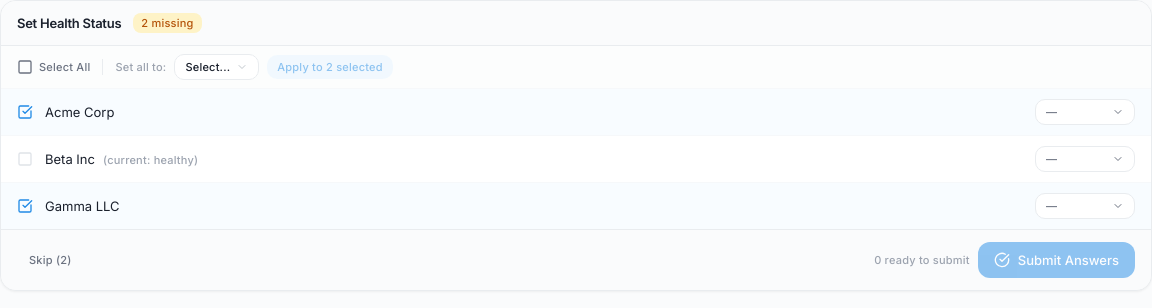
Test: BatchEnrichmentPanel › Bulk Value Application › 10. Apply bulk overwrites existing pending values
The width and height of the screenshot is (1152, 308).
First set individual values
Click the button "—" in the row of "Acme Corp".
click(1085, 112)  # box [1035, 99, 1135, 125]
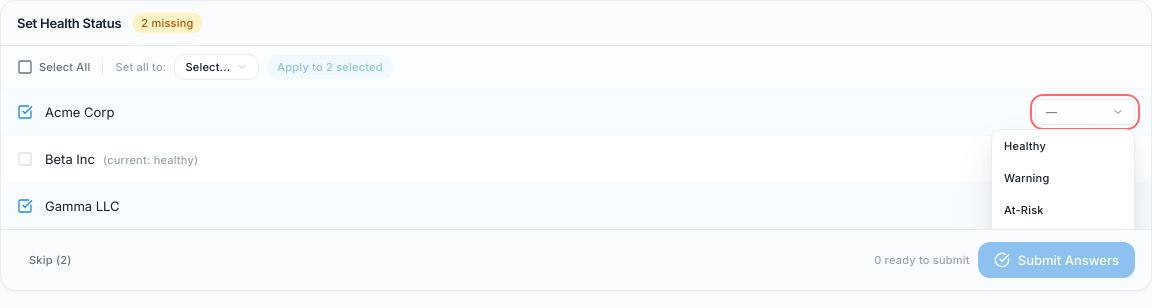
Click the button "At-Risk".
click(1063, 210)  # box [992, 194, 1134, 226]
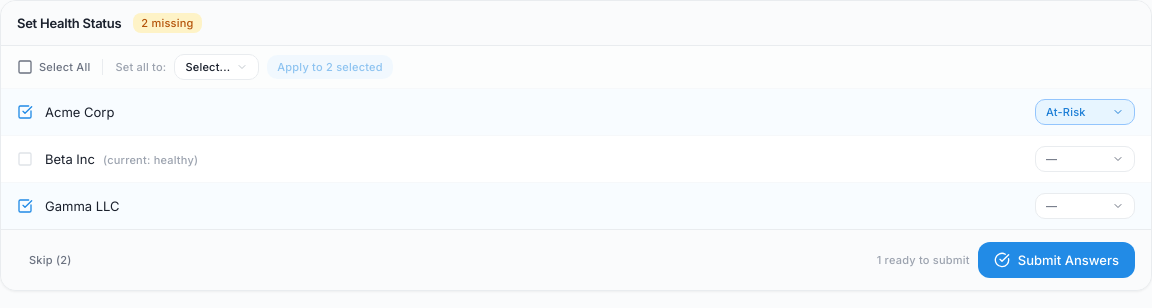
Now apply bulk "Healthy"
Click the button "Select...".
click(217, 67)  # box [174, 54, 259, 80]
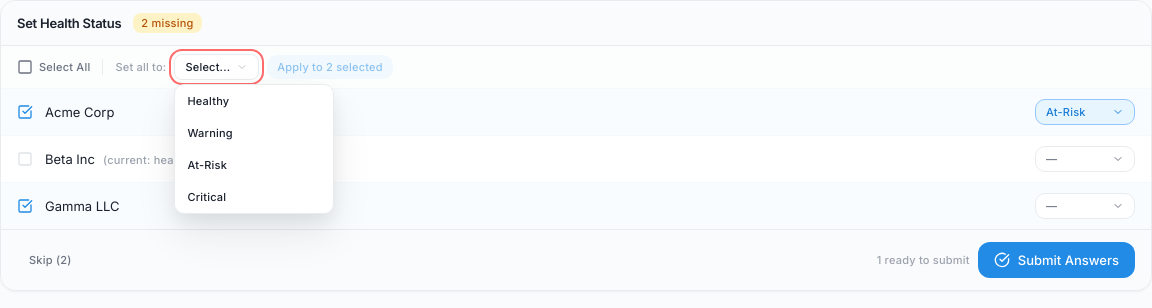
Click the button "Healthy".
click(254, 101)  # box [175, 85, 333, 117]
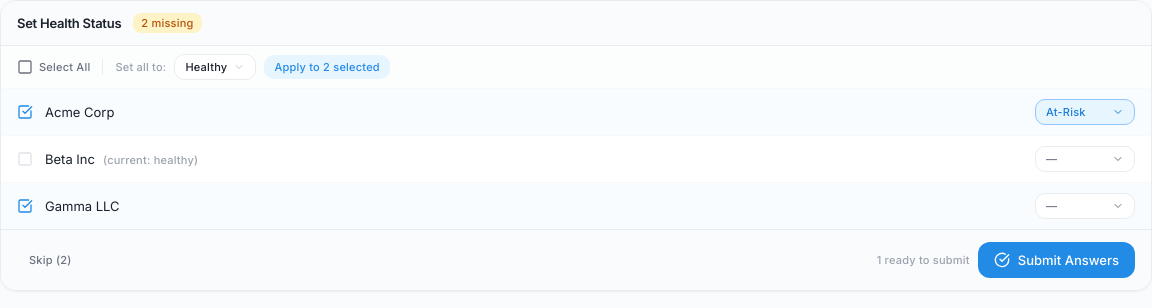
Click the button "Apply to 2 selected".
click(327, 67)  # box [264, 55, 390, 79]
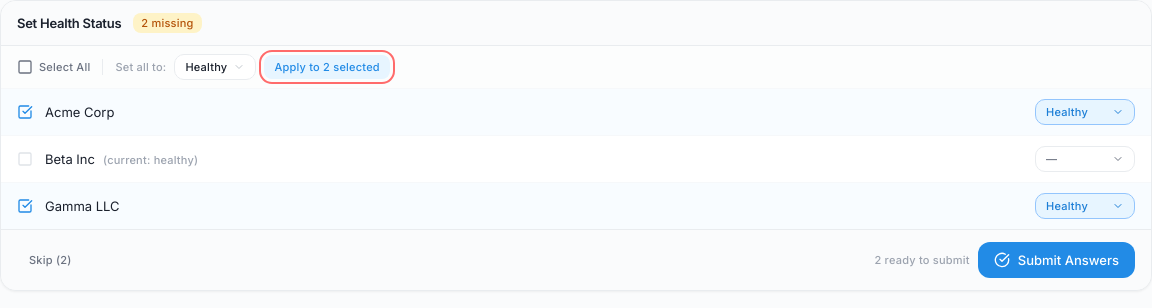
Expected: the button "Healthy" in the row of "Acme Corp" is shown, [1035, 99, 1135, 125]
